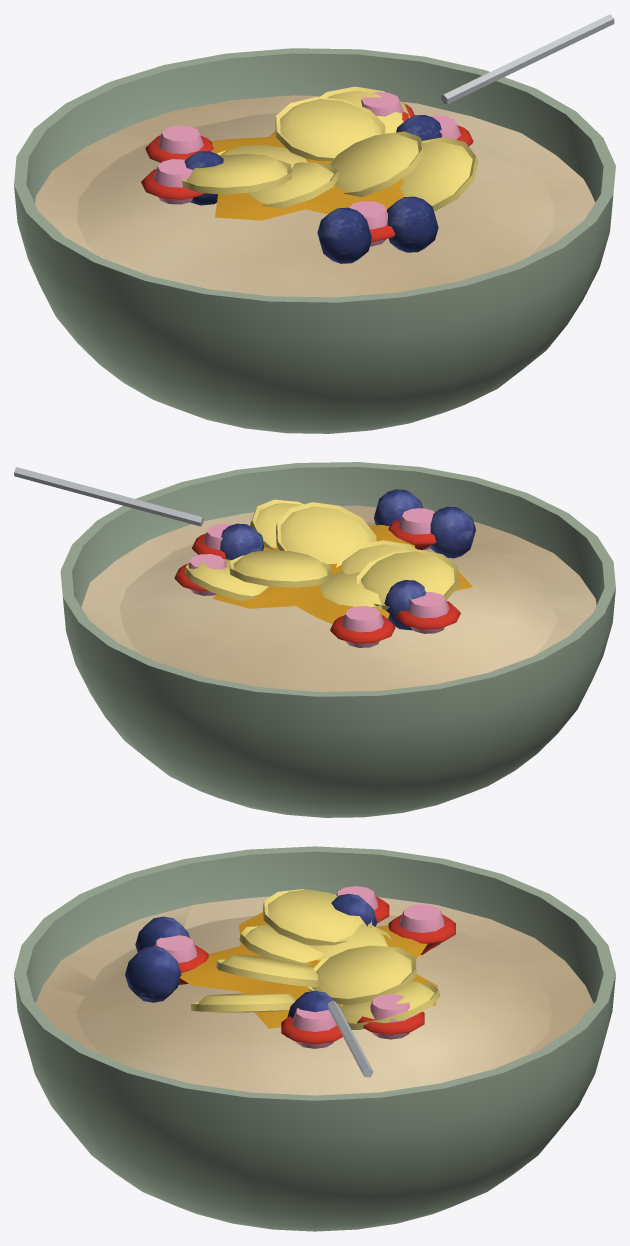
The model's file is meal_porridge_bowl.glb.
The picture shows the model from 3 angles, top to bottom: view 1: azimuth 30°, elevation 25°; view 2: azimuth 150°, elevation 25°; view 3: azimuth 270°, elevation 25°; orthographic projection. The views are drawn at different scales.
Parts seen in each view (by area): view 1: meal_porridge_bowl; view 2: meal_porridge_bowl; view 3: meal_porridge_bowl.
Boxes of the visible parts, x1,y1,x2,y2 form: meal_porridge_bowl: [14, 14, 615, 433]; meal_porridge_bowl: [14, 462, 615, 817]; meal_porridge_bowl: [14, 846, 615, 1231].
Size of the model in its own units: 0.1903 by 0.0796 by 0.17.
8 materials, 2 textured.
